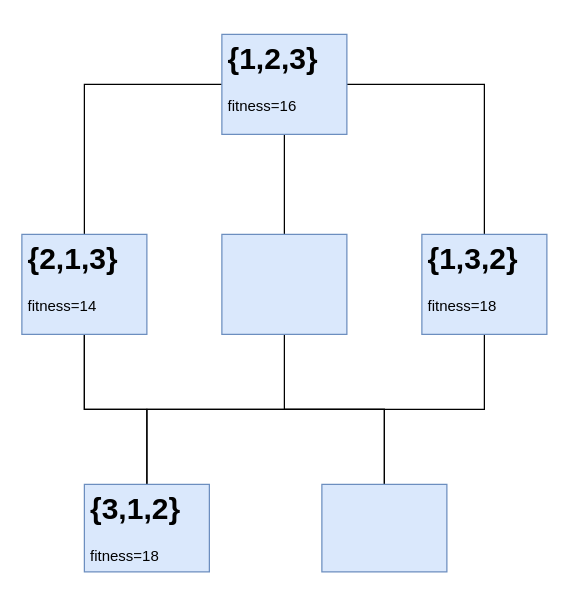
The diagram is 569 pixels wide and 594 high, and some of its shapes have lost their labels. Each missing label, with the centre of its shape:
{2,3,1} fitness=18: (x=384, y=527)
{3,2,1} fitness=14: (x=284, y=283)
